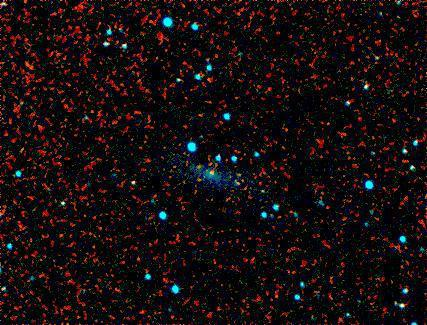star: (223, 160, 253, 190)
